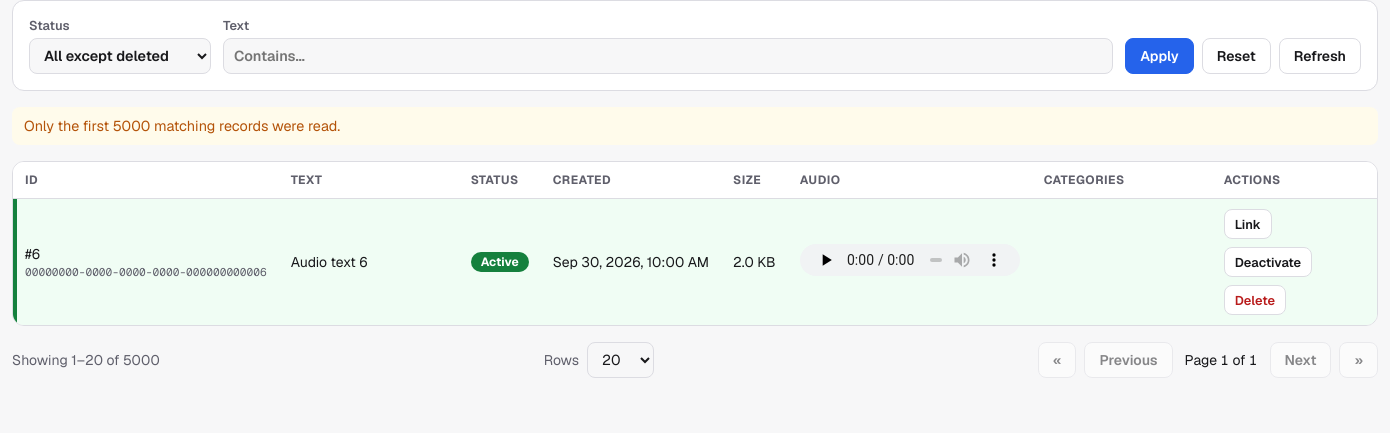
Test case: AudioLog › shows a generic message for unreadable errors and network failures
This screenshot has width=1390, height=433.
Expected: the text "Only the first 5000 matching records were read." is shown, [12, 107, 1378, 145]
Click the button named "Deactivate audio #6" at (1268, 262), box [1224, 247, 1312, 277]
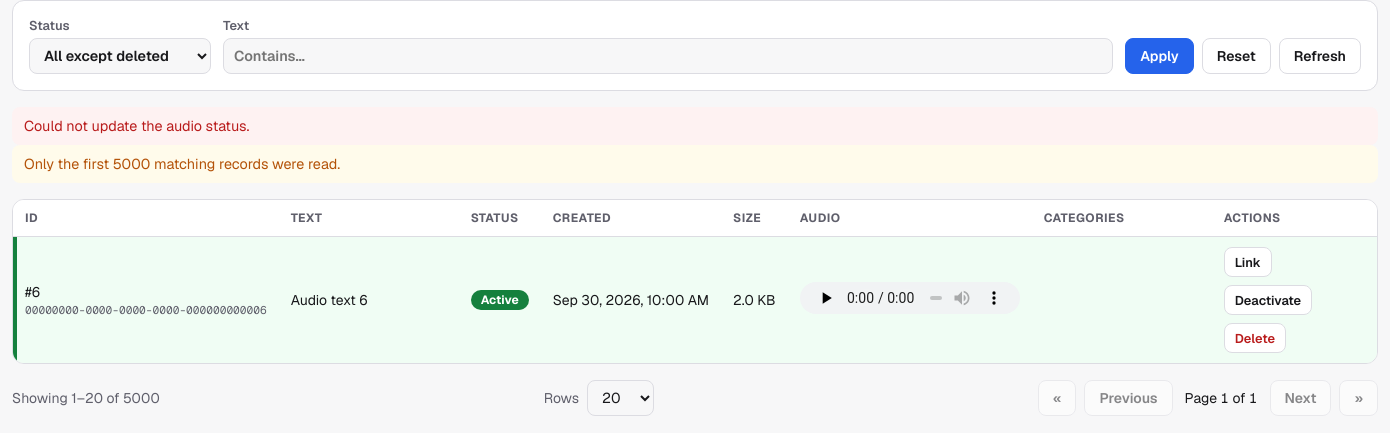
Expected: the message reads "Could not update the audio status.", [24, 117, 249, 135]
Click the button named "Deactivate audio #6" at (1268, 300), box [1224, 285, 1312, 315]
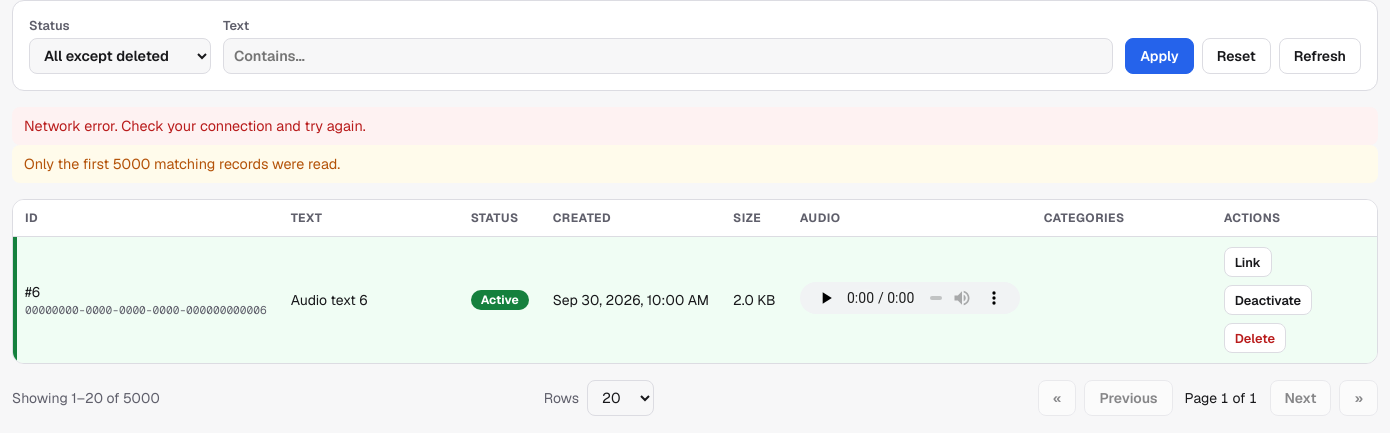
Expected: the message shows "Network error.", [24, 117, 366, 135]
